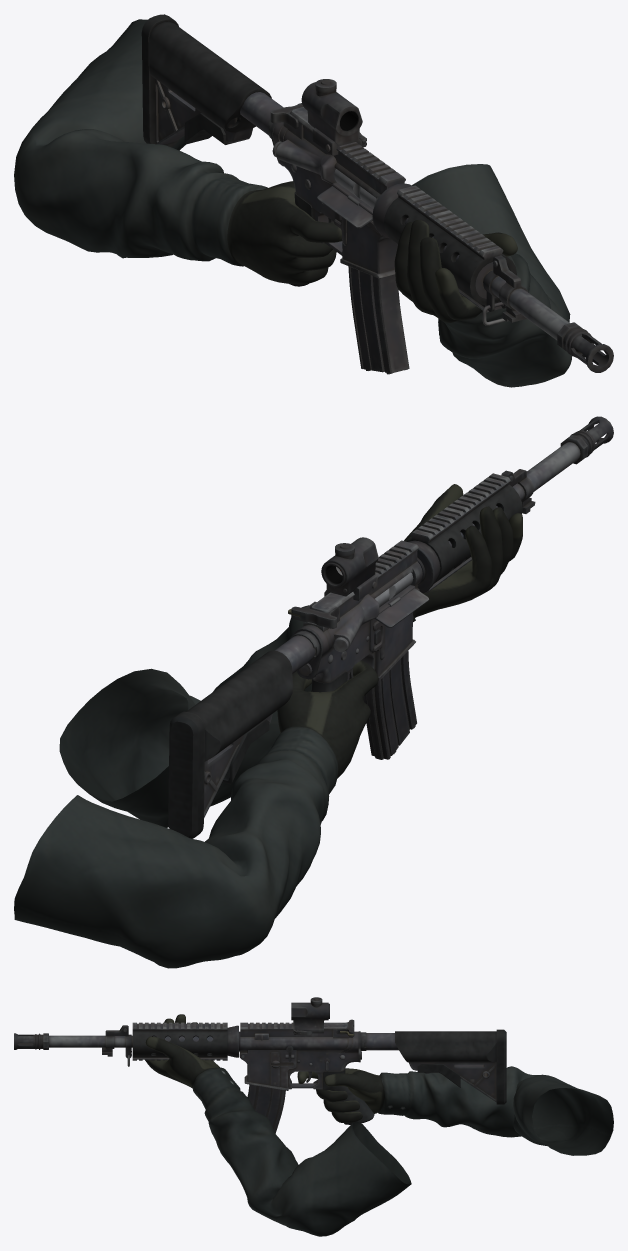
The model's file is carbine_000158.obj.
3 renders of one model, top to bottom at view 1: azimuth 30°, elevation 25°; view 2: azimuth 150°, elevation 25°; view 3: azimuth 270°, elevation 25°, orthographic. The views are drawn at different scales.
Visible parts, largest first — view 1: armmesh_arms_0, base_carbine_0, clip_carbine_0, scope_carbine_0, lid_carbine_0, bolt_carbine_0; view 2: armmesh_arms_0, base_carbine_0, clip_carbine_0, scope_carbine_0, lid_carbine_0, handle_carbine_0; view 3: armmesh_arms_0, base_carbine_0, scope_carbine_0, clip_carbine_0.
Part boxes in pixels (x1,y1,x2,y2): armmesh_arms_0: (14,19,572,387); base_carbine_0: (141,14,613,372); clip_carbine_0: (348,266,409,374); scope_carbine_0: (301,79,366,155); lid_carbine_0: (317,186,372,228); bolt_carbine_0: (334,169,376,208); armmesh_arms_0: (14,484,522,968); base_carbine_0: (168,416,613,838); clip_carbine_0: (363,651,416,759); scope_carbine_0: (321,537,378,600); lid_carbine_0: (374,588,428,627); handle_carbine_0: (291,601,339,628); armmesh_arms_0: (145,1014,613,1236); base_carbine_0: (14,1022,506,1124); scope_carbine_0: (291,997,329,1035); clip_carbine_0: (247,1084,285,1133).
Size of the model in its own units: 44.82 by 41.67 by 123.
Materials: 3 (3 with a texture image).
